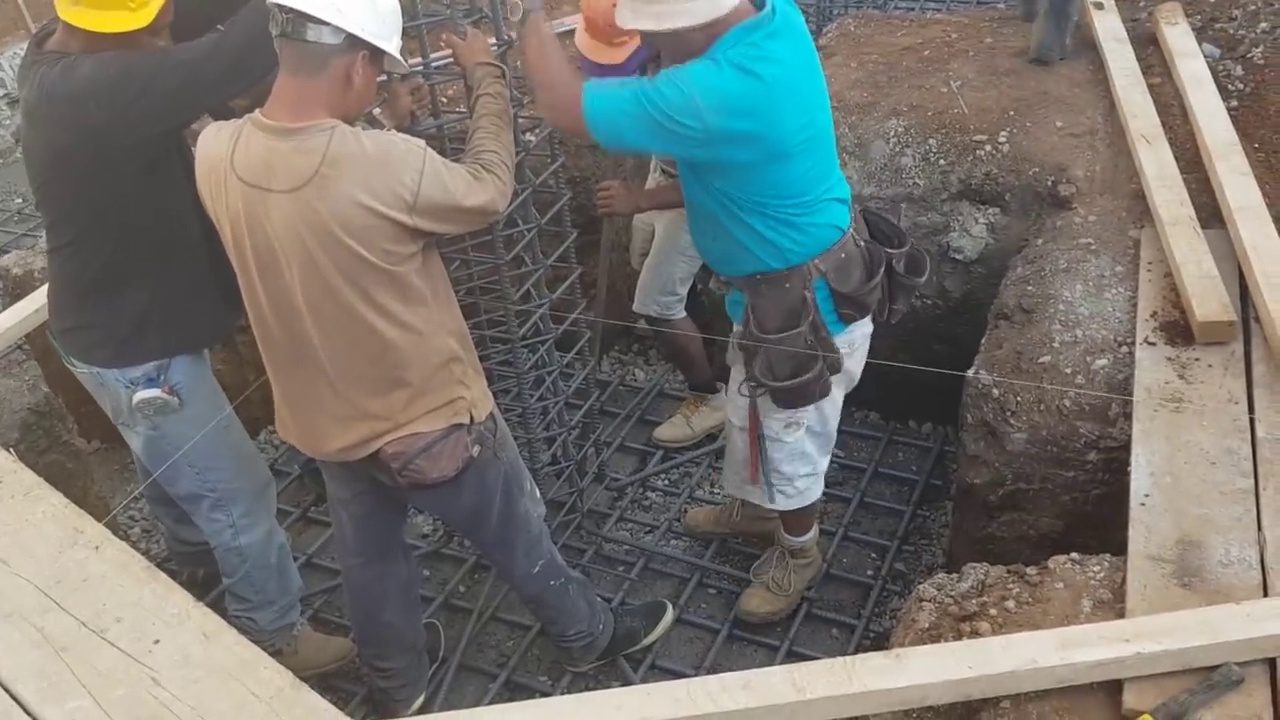helmet: (261, 0, 410, 71), (572, 3, 640, 66)
helmet-off: (612, 2, 764, 80)
helmet-on: (250, 0, 407, 127), (35, 0, 161, 68), (571, 1, 643, 86)
person: (190, 0, 664, 713), (28, 0, 357, 687), (529, 5, 879, 629), (613, 0, 722, 450)
